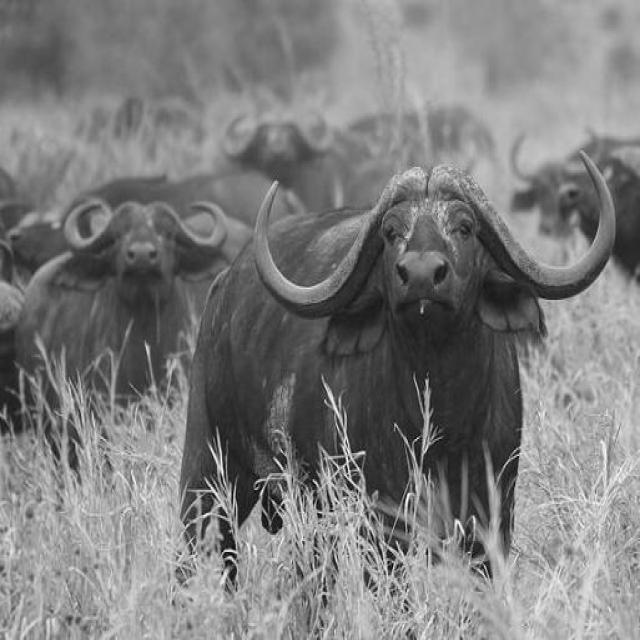Buffalo: (176, 147, 616, 614), (15, 201, 230, 493), (222, 108, 399, 229), (506, 129, 640, 261)
